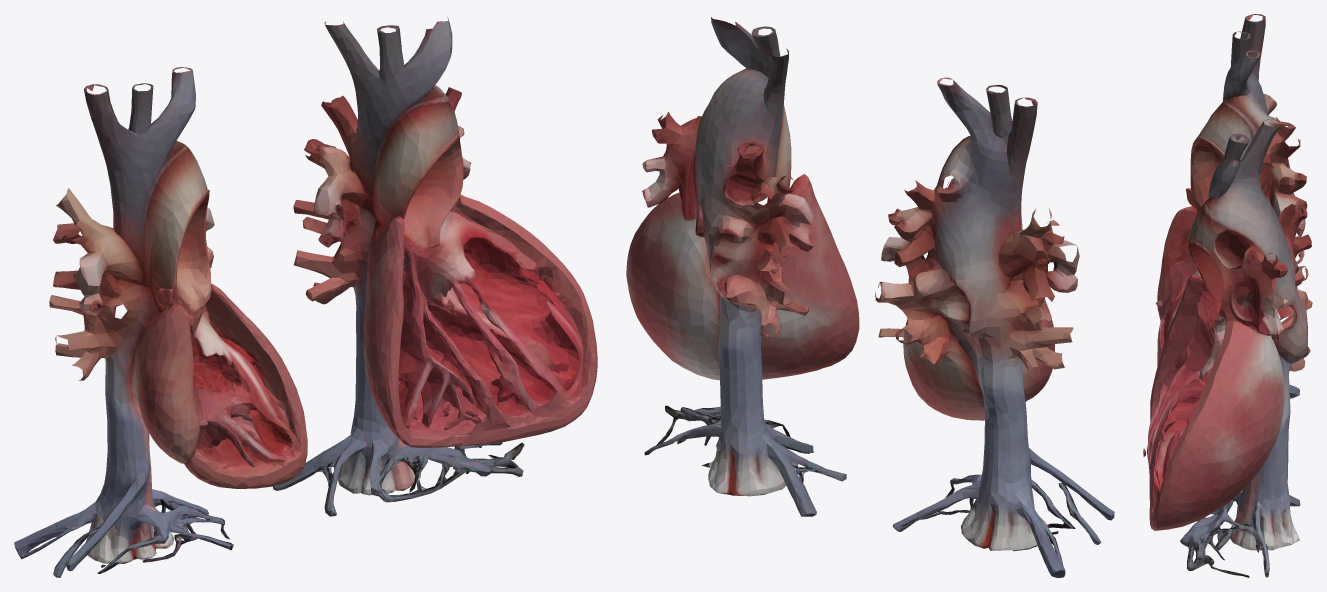
Rendered from heart-failure.glb.
The picture shows the model from 3 angles, left to right: view 1: azimuth 30°, elevation 25°; view 2: azimuth 150°, elevation 25°; view 3: azimuth 270°, elevation 25°; orthographic projection. The views are drawn at different scales.
Parts seen in each view (by area): view 1: HeartFailure, HeartFailure.002; view 2: HeartFailure, HeartFailure.002; view 3: HeartFailure, HeartFailure.002.
Part boxes in pixels (x1=…): HeartFailure: x1=272, y1=17, x2=597, y2=516; HeartFailure.002: x1=14, y1=67, x2=307, y2=577; HeartFailure: x1=626, y1=17, x2=859, y2=516; HeartFailure.002: x1=875, y1=77, x2=1114, y2=577; HeartFailure: x1=1143, y1=119, x2=1312, y2=577; HeartFailure.002: x1=1155, y1=14, x2=1308, y2=398.
Bounding box in the file's own units: 1 × 0.8818 × 0.3346.
1 material, 1 textured.
